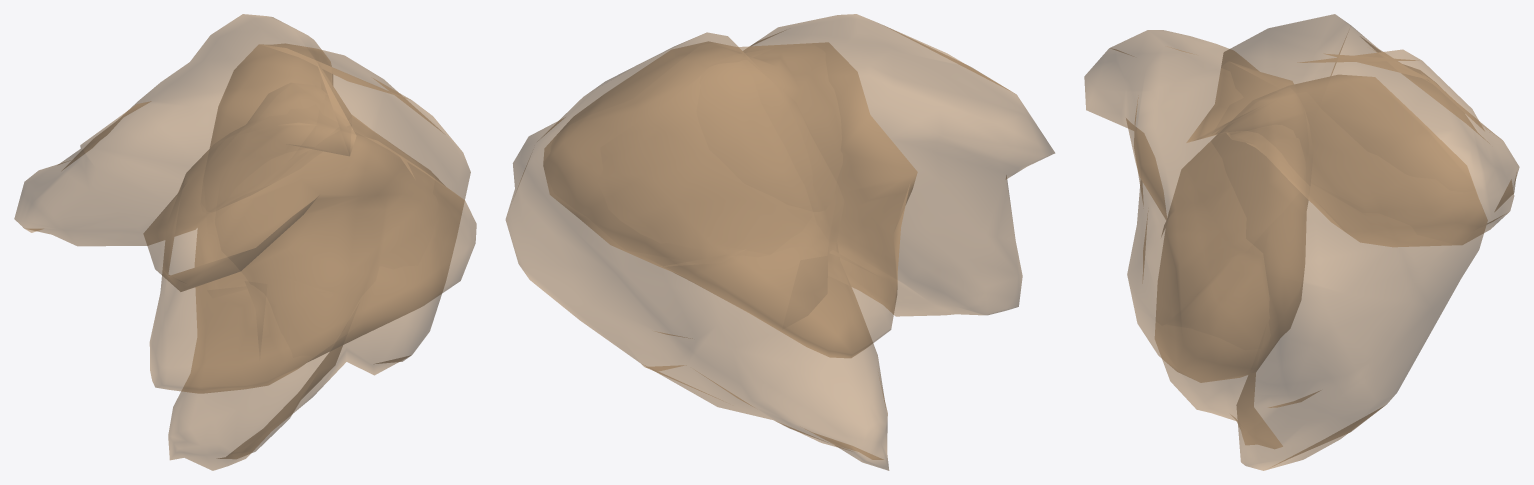
The picture shows the model from 3 angles, left to right: view 1: azimuth 30°, elevation 25°; view 2: azimuth 150°, elevation 25°; view 3: azimuth 270°, elevation 25°; orthographic projection. The views are drawn at different scales.
Parts seen in each view (by area): view 1: SM_RoughRock02_low.001; view 2: SM_RoughRock02_low.001; view 3: SM_RoughRock02_low.001.
Part boxes in pixels (x1,y1,x2,y2): SM_RoughRock02_low.001: (14, 14, 476, 470); SM_RoughRock02_low.001: (505, 14, 1054, 470); SM_RoughRock02_low.001: (1084, 14, 1519, 470).
Size of the model in its own units: 2.24 by 2.08 by 1.88.
